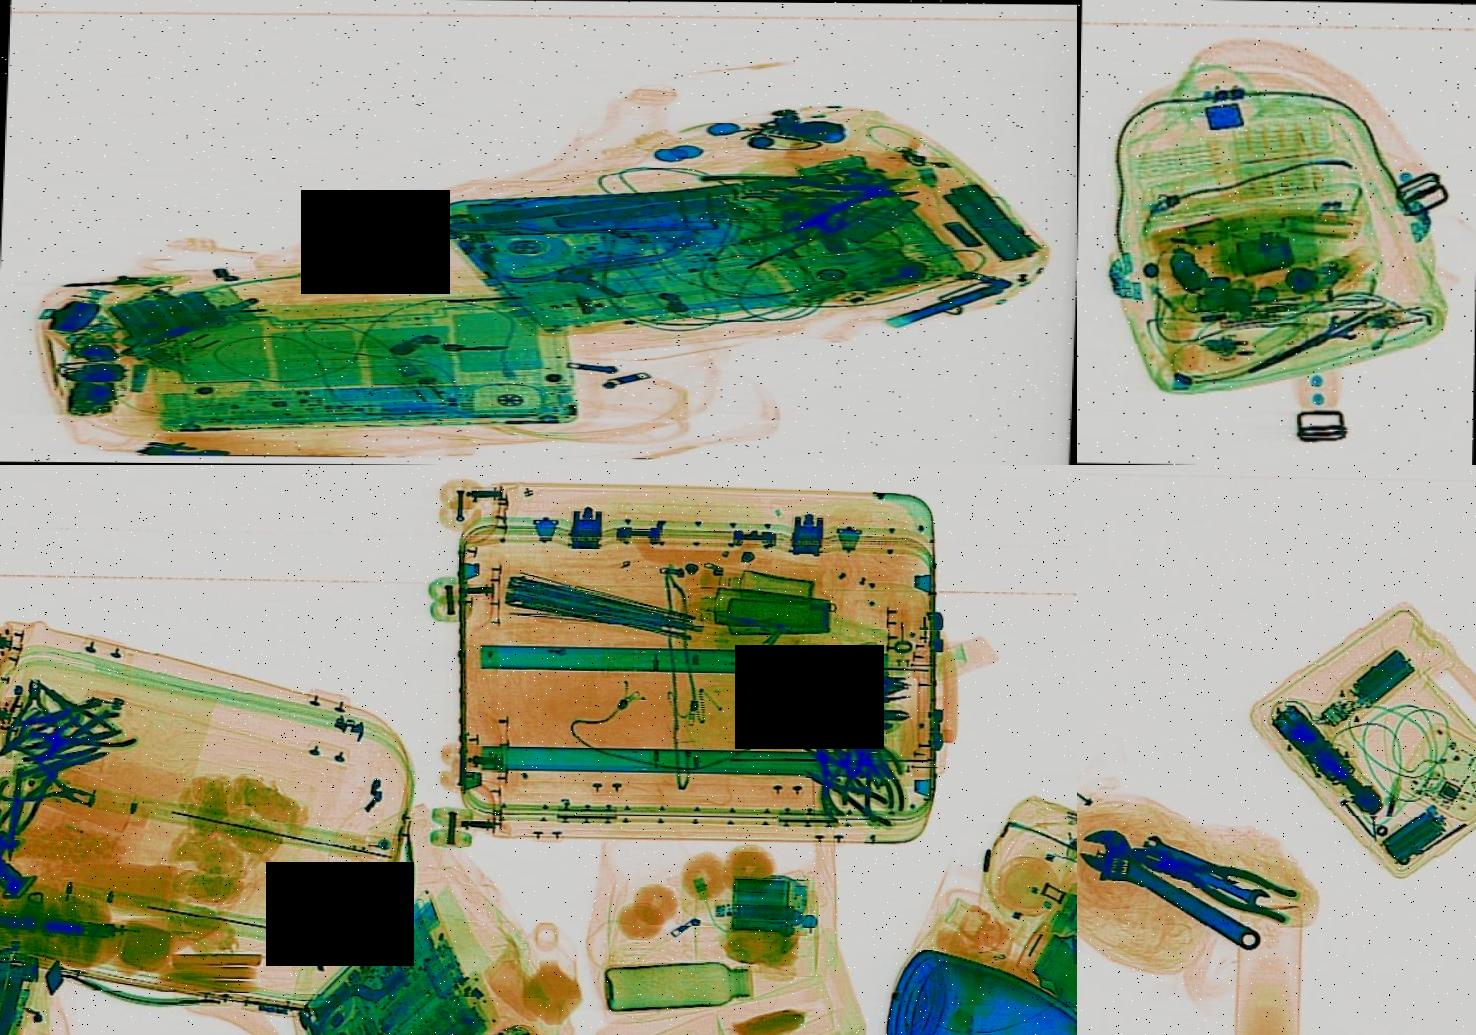Knife: (1243, 295, 1380, 386)
Pliers: (683, 150, 947, 244), (1124, 831, 1301, 925), (723, 663, 857, 740), (0, 742, 113, 825), (787, 763, 914, 826)
Wrench: (1077, 814, 1274, 969), (1144, 831, 1243, 886), (1186, 859, 1274, 912)
